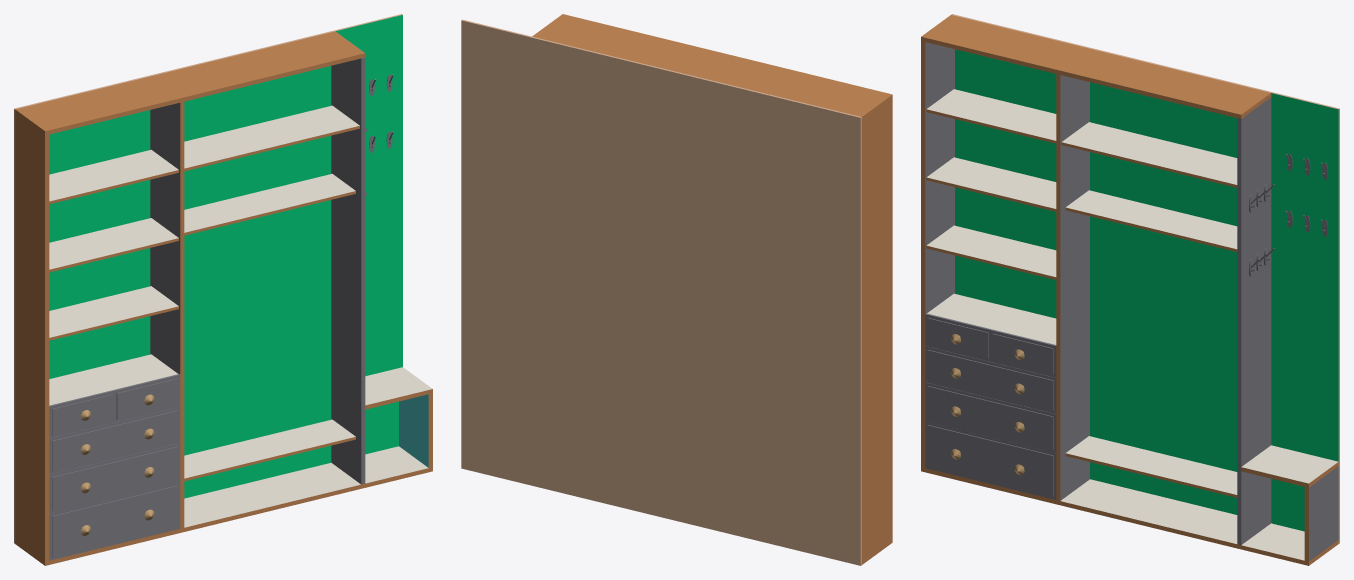
File: shkafee.glb
3 renders of one model, left to right at view 1: azimuth 30°, elevation 25°; view 2: azimuth 150°, elevation 25°; view 3: azimuth 330°, elevation 25°, orthographic. The views are drawn at different scales.
Bounding box in the file's own units: 2.77 × 2.96 × 0.4452.
